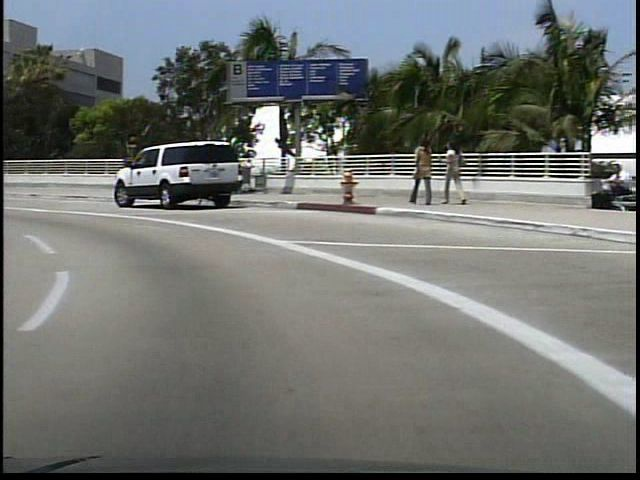person: (406, 134, 430, 213), (433, 137, 459, 208)
